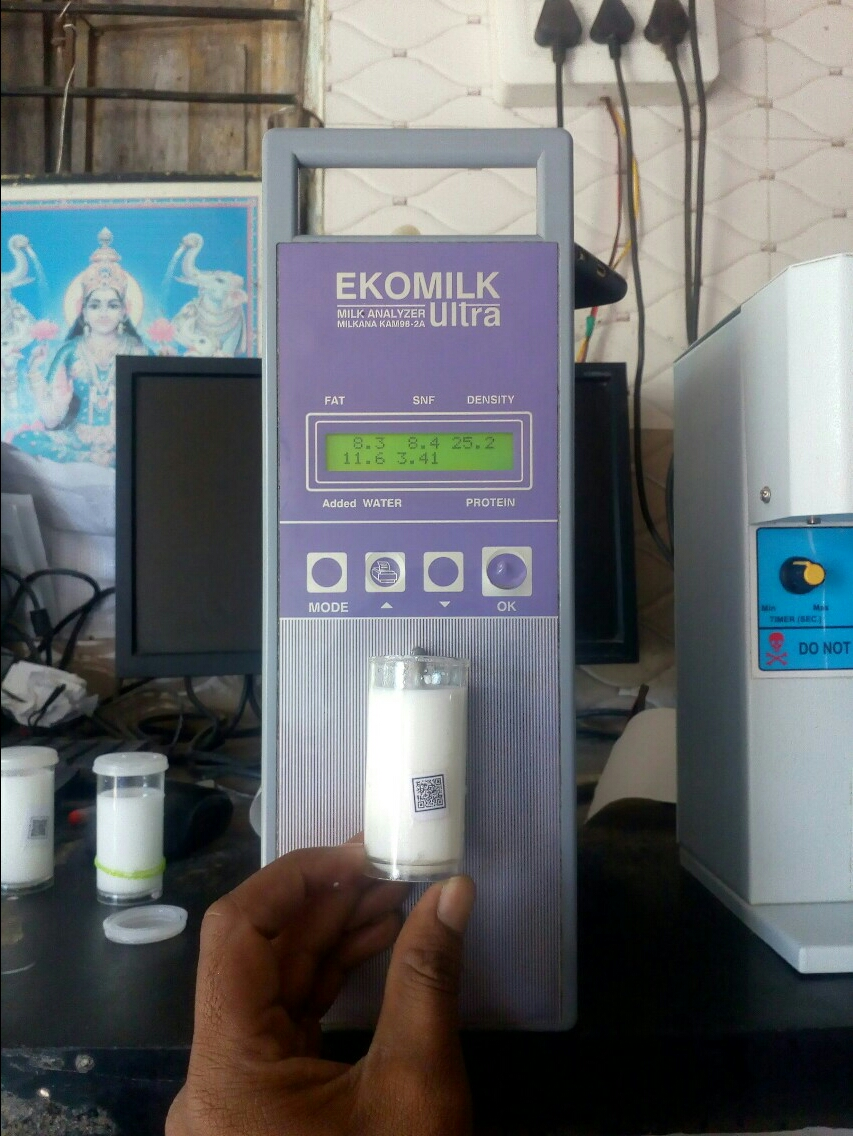lcd: (324, 426, 527, 478)
qr: (405, 771, 460, 816)
